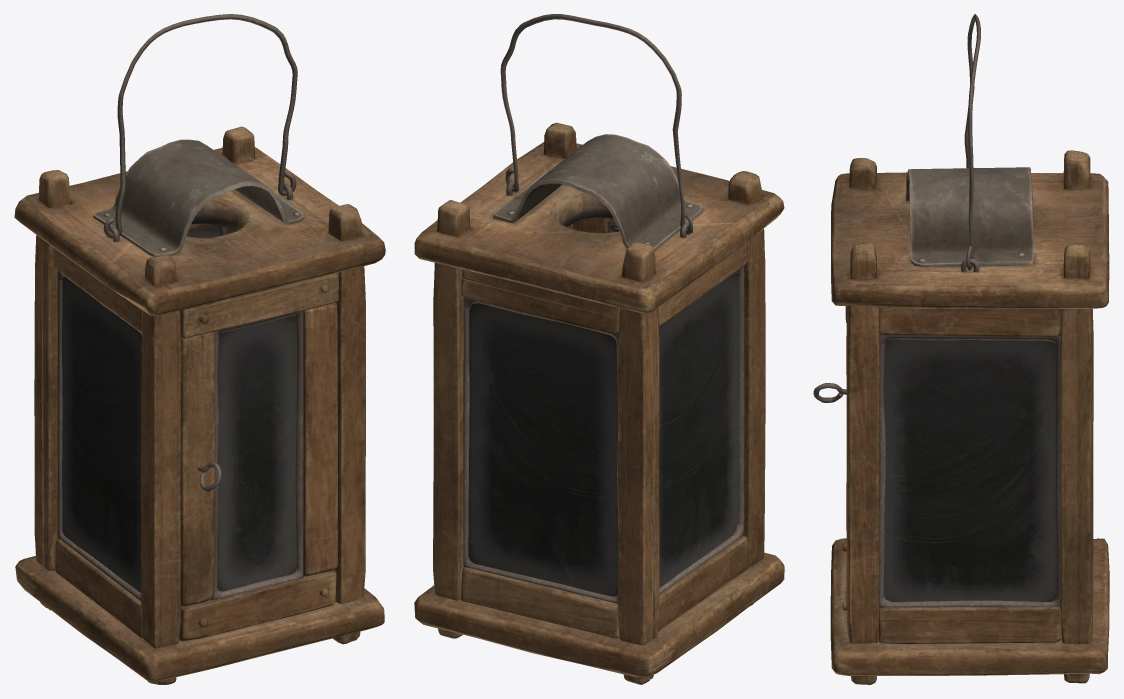
The model's file is lantern.glb.
The picture shows the model from 3 angles, left to right: view 1: azimuth 30°, elevation 25°; view 2: azimuth 150°, elevation 25°; view 3: azimuth 270°, elevation 25°; orthographic projection.
Visible parts, largest first — view 1: wooden_lantern_01; view 2: wooden_lantern_01; view 3: wooden_lantern_01.
Boxes of the visible parts, bbox=[...] form: wooden_lantern_01: bbox=[14, 14, 385, 684]; wooden_lantern_01: bbox=[414, 14, 784, 684]; wooden_lantern_01: bbox=[813, 14, 1109, 684].
Size of the model in its own units: 0.221 by 0.5301 by 0.2347.
Materials: 2 (2 with a texture image).
